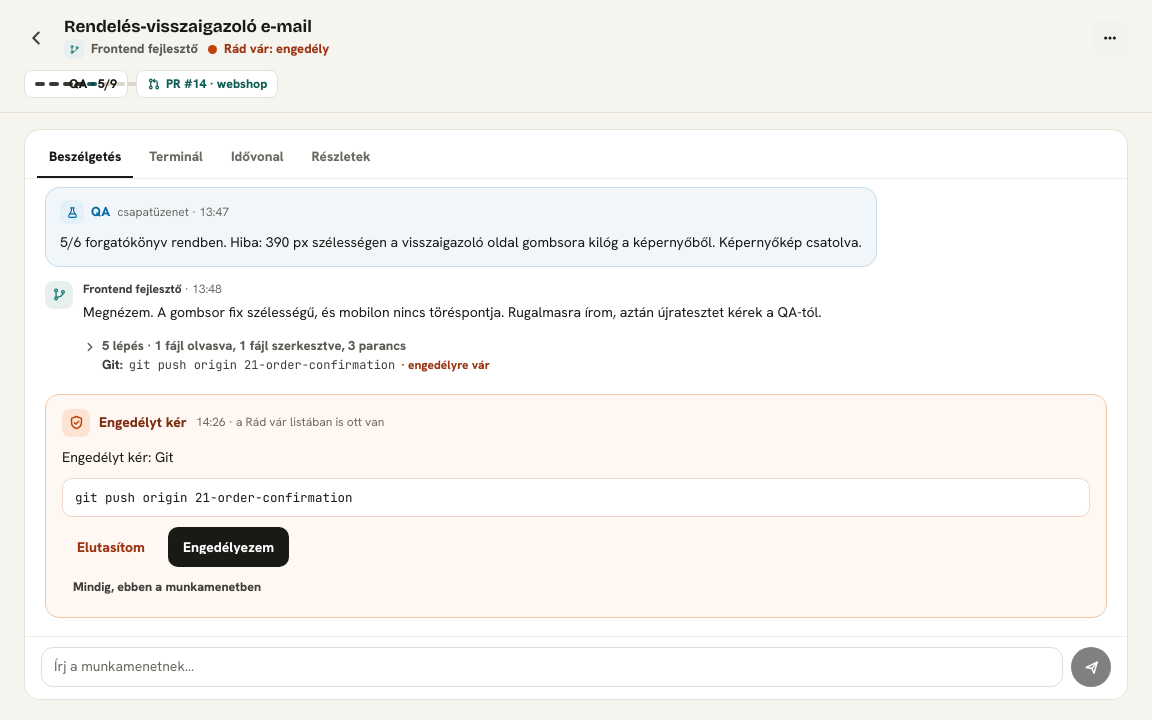
session header › is one row on a phone: back arrow, title, status and "⋯" for stop, without the app header
(page scrolled)
Expected: the button "Leállítás" is not shown
What coordinates should you click on to do the following:
click the button named "További műveletek"
I would click on:
 (1110, 38)
Its box is [1092,20,1128,56].
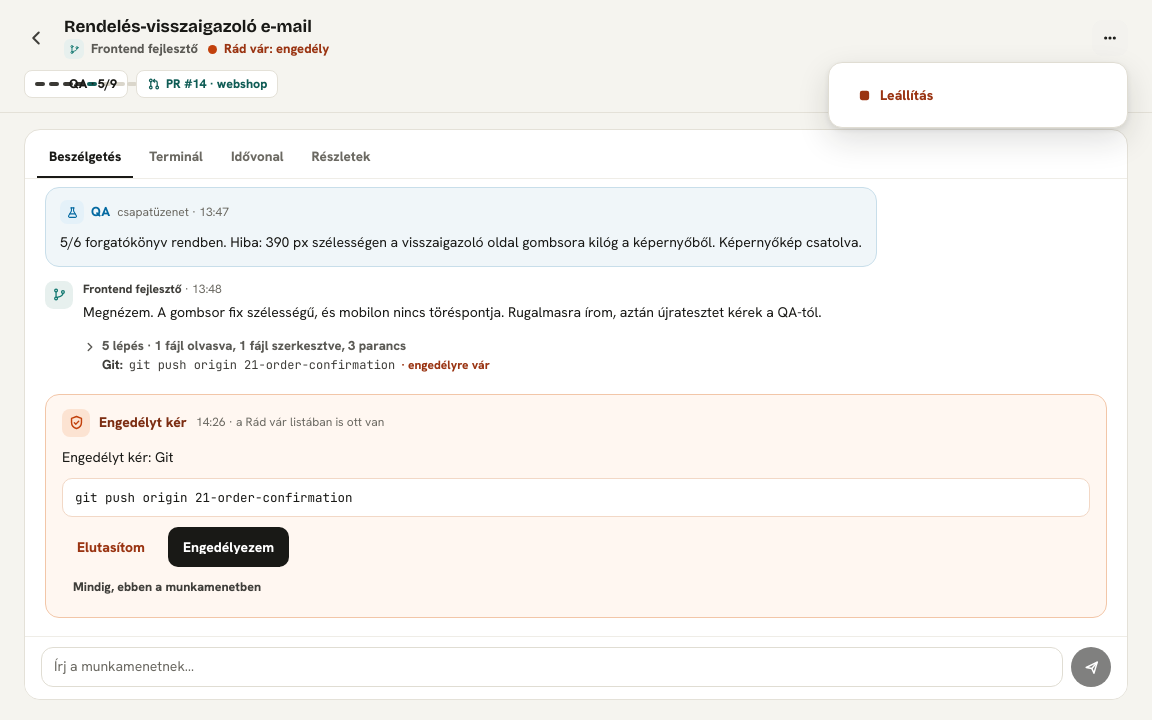
Expected: the text "Frontend fejlesztő" next to "Rád vár: engedély" is shown, [91,40,198,57]
Expected: the button "Leállítás" is shown, [841,75,1115,115]
